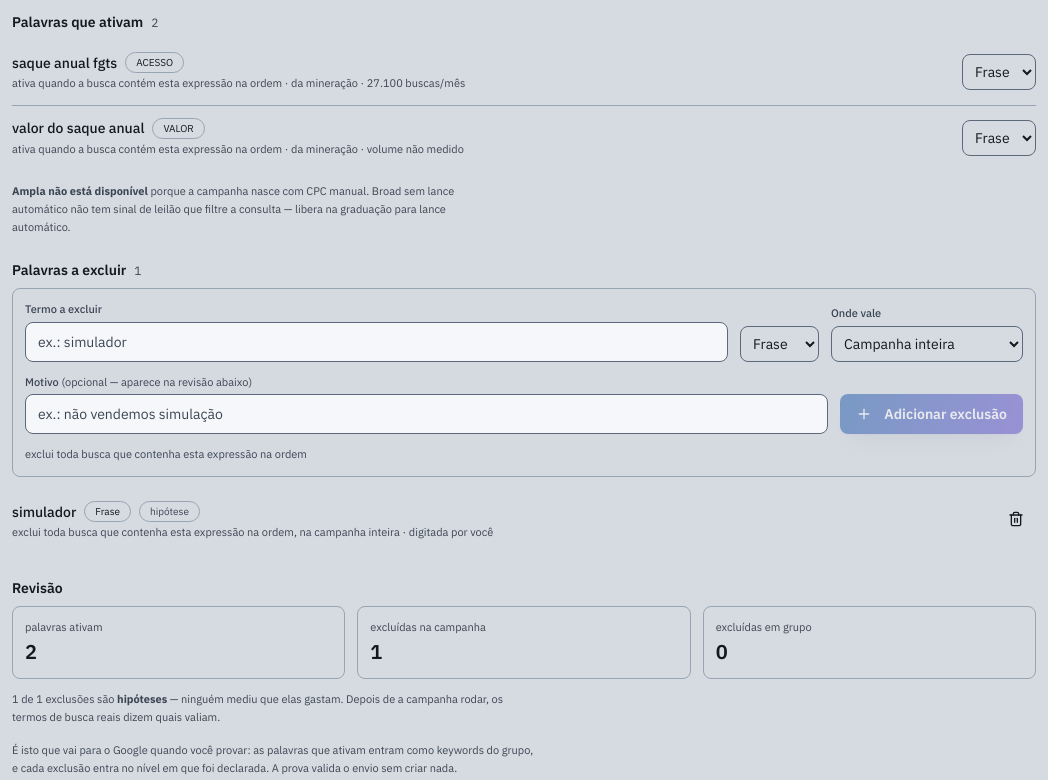
palavras a excluir › recusa a duplicata exata em vez de mandar duas operações
This screenshot has width=1048, height=780.
In the field labelled "Termo a excluir": (376, 342) [25,322,728,362], type "simulador"
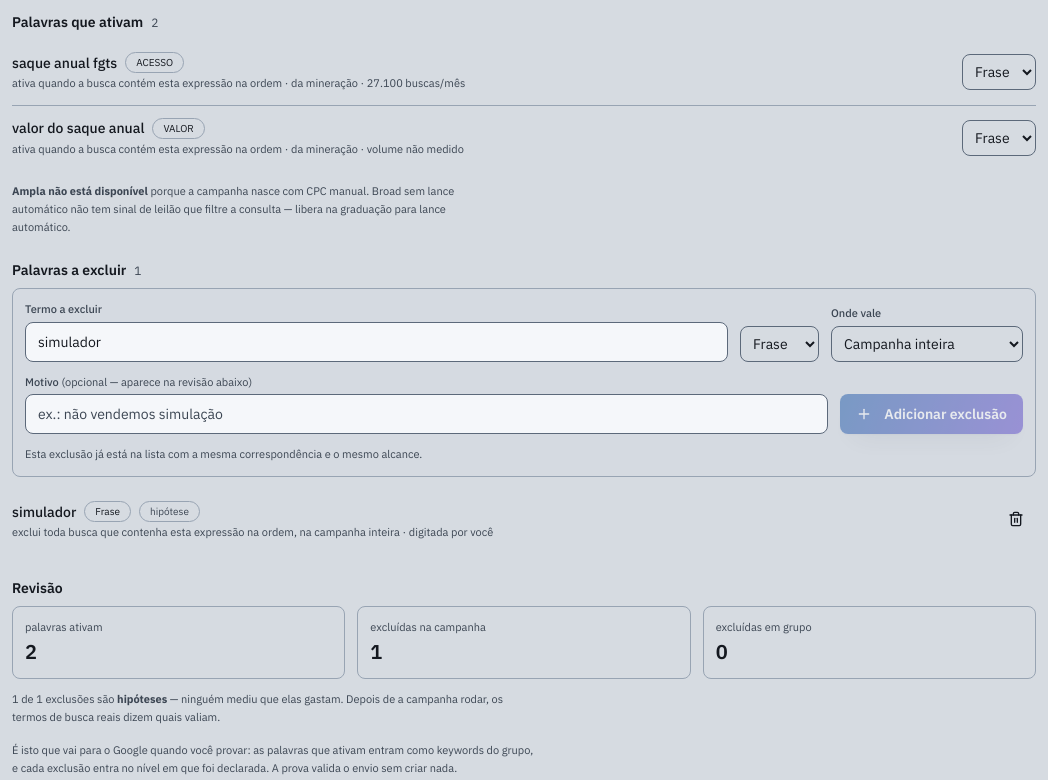
Check: the button "Adicionar exclusão" is disabled, box [840,394,1023,434]
Check: the text "já está na lista" is shown, box [25,447,422,461]
